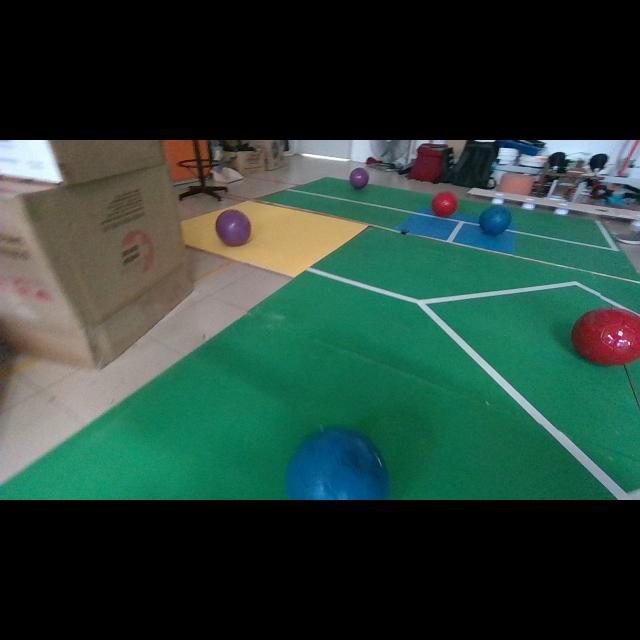B: (286, 429, 389, 500), (479, 205, 511, 234)
P: (216, 210, 251, 246), (350, 168, 369, 189)
R: (571, 308, 640, 364), (431, 191, 458, 217)
